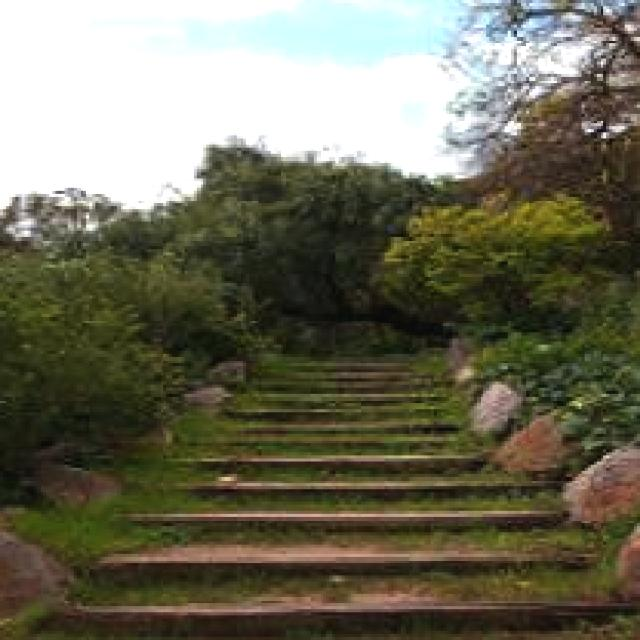upstair: (75, 432, 604, 623)
